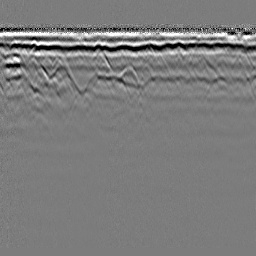cavity: (114, 63, 143, 89)
